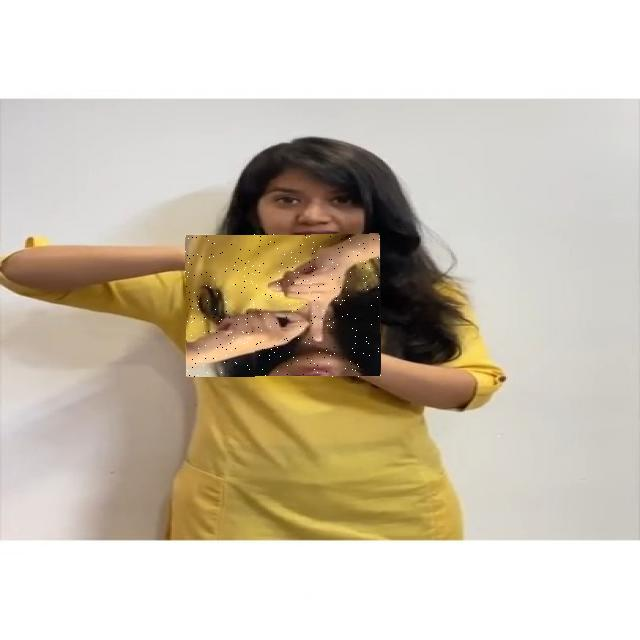K: (185, 234, 381, 377)
